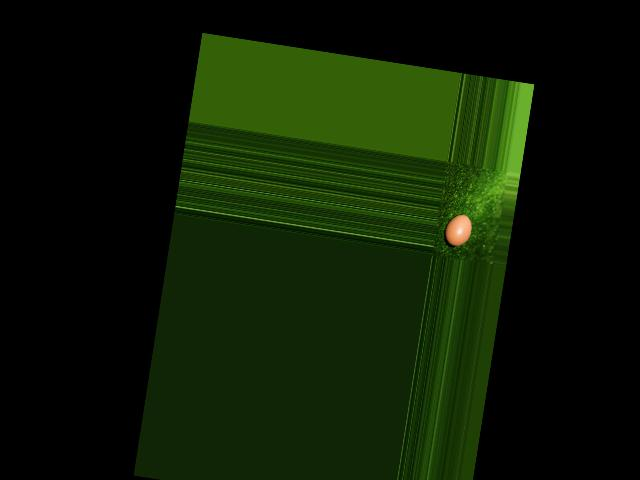egg: (442, 211, 473, 248)
